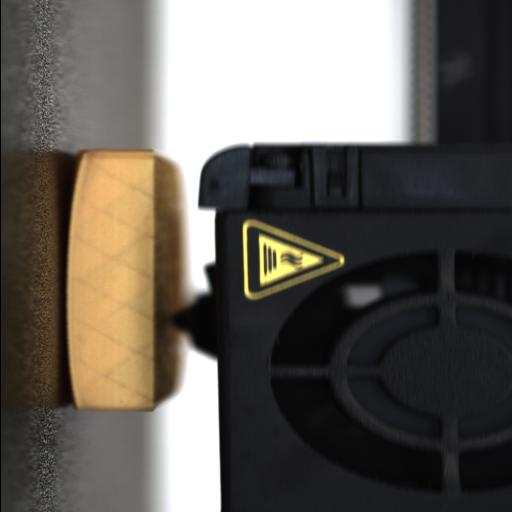warp: (63, 150, 96, 202), (64, 378, 84, 410)
